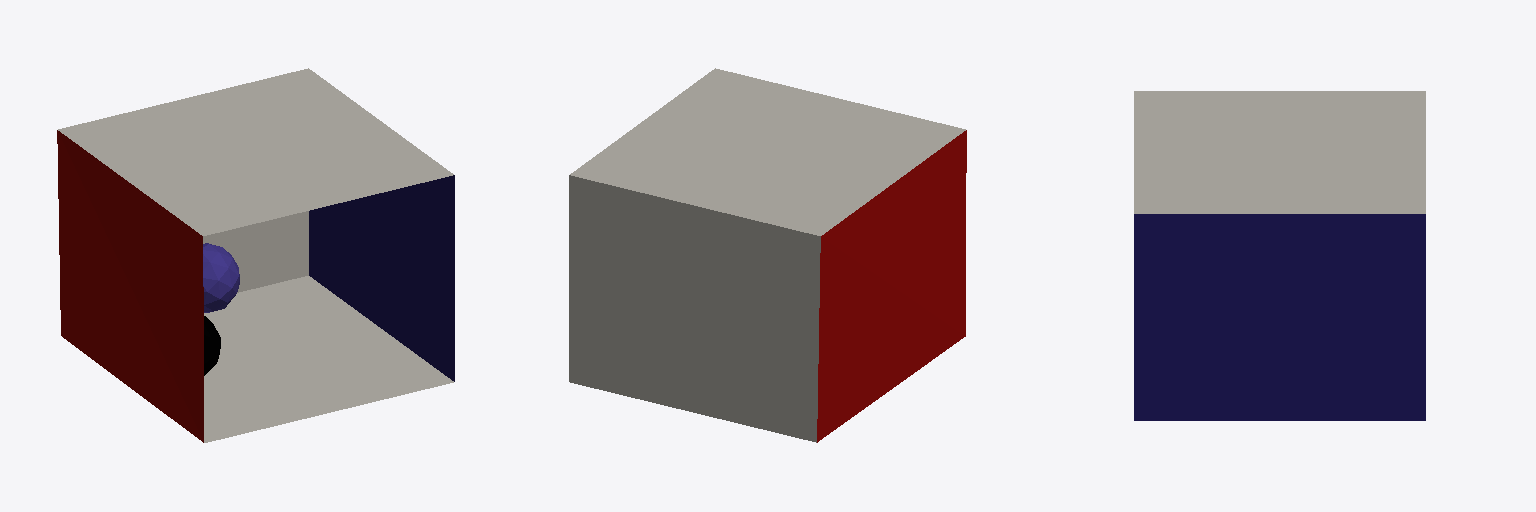
The model's file is CornellBox-Sphere-934.obj.
3 views of the same model, side by side, from view 1: azimuth 30°, elevation 25°; view 2: azimuth 150°, elevation 25°; view 3: azimuth 270°, elevation 25° (orthographic).
Visible parts, largest first — view 1: ceiling, leftWall, floor, rightWall, backWall, leftSphere, rightSphere; view 2: backWall, ceiling, leftWall; view 3: rightWall, ceiling.
Part boxes in pixels (x1,y1,x2,y2): ceiling: (58,68,453,235); leftWall: (57,130,203,442); floor: (204,276,453,442); rightWall: (309,175,454,381); backWall: (203,211,308,292); leftSphere: (203,243,239,312); rightSphere: (204,316,220,375); backWall: (569,175,820,442); ceiling: (570,68,965,235); leftWall: (817,130,966,442); rightWall: (1134,214,1425,420); ceiling: (1134,91,1425,213).
Bounding box in the file's own units: 2.02 × 1.59 × 2.03.